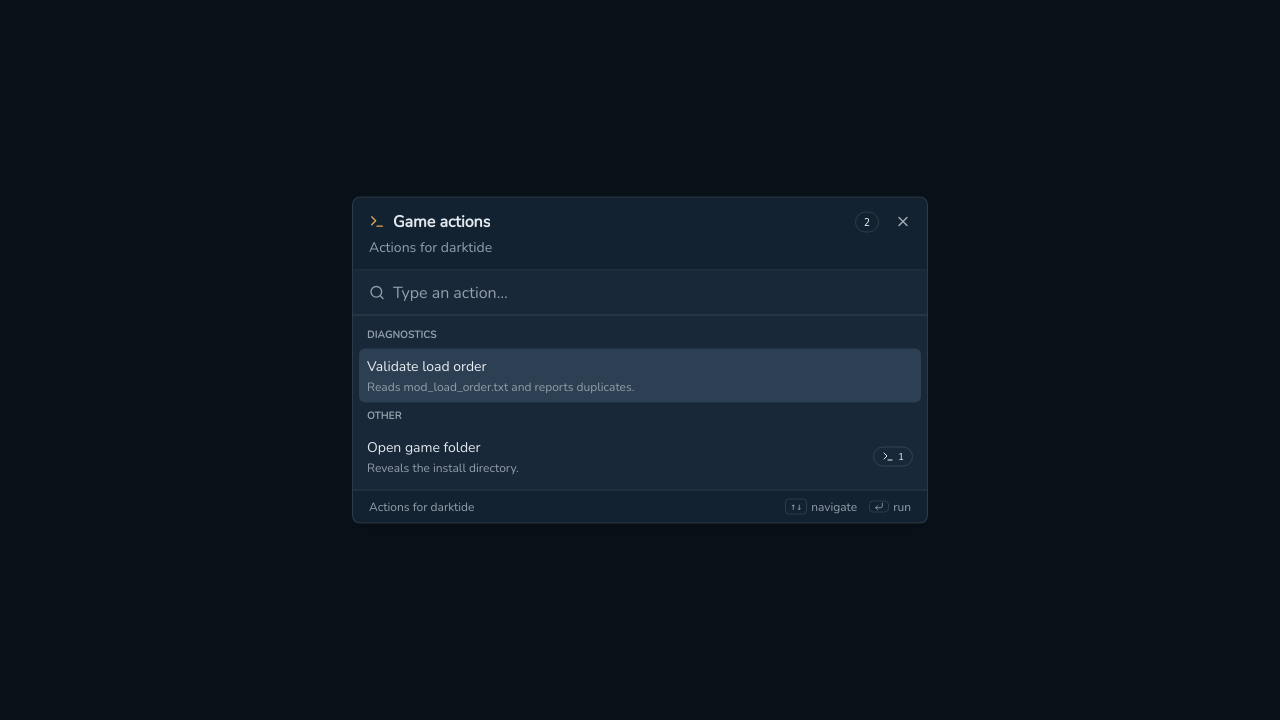
Scenario: action surfaces › keeps the picked action for the dialog
Click the text "Open game folder". click: (424, 447)
box: [367,438,480,456]
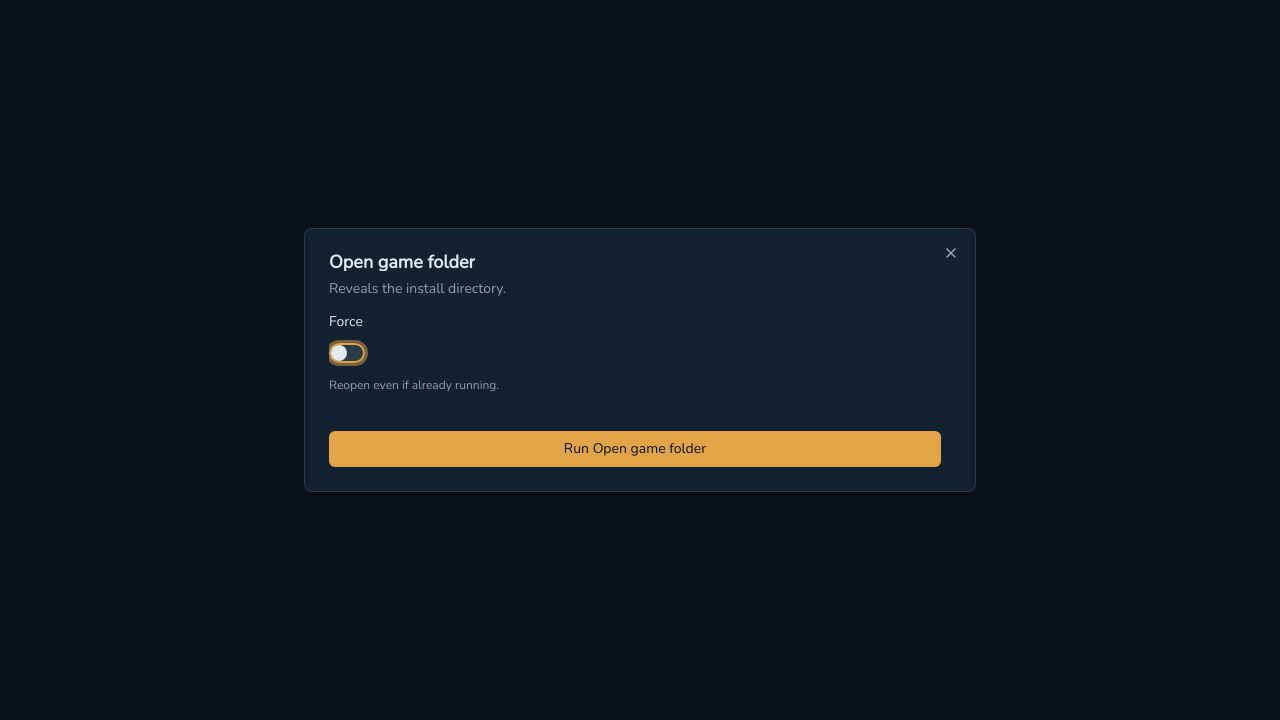
expect the dialog shows "Open game folder": met, box [329,250,475,274]
